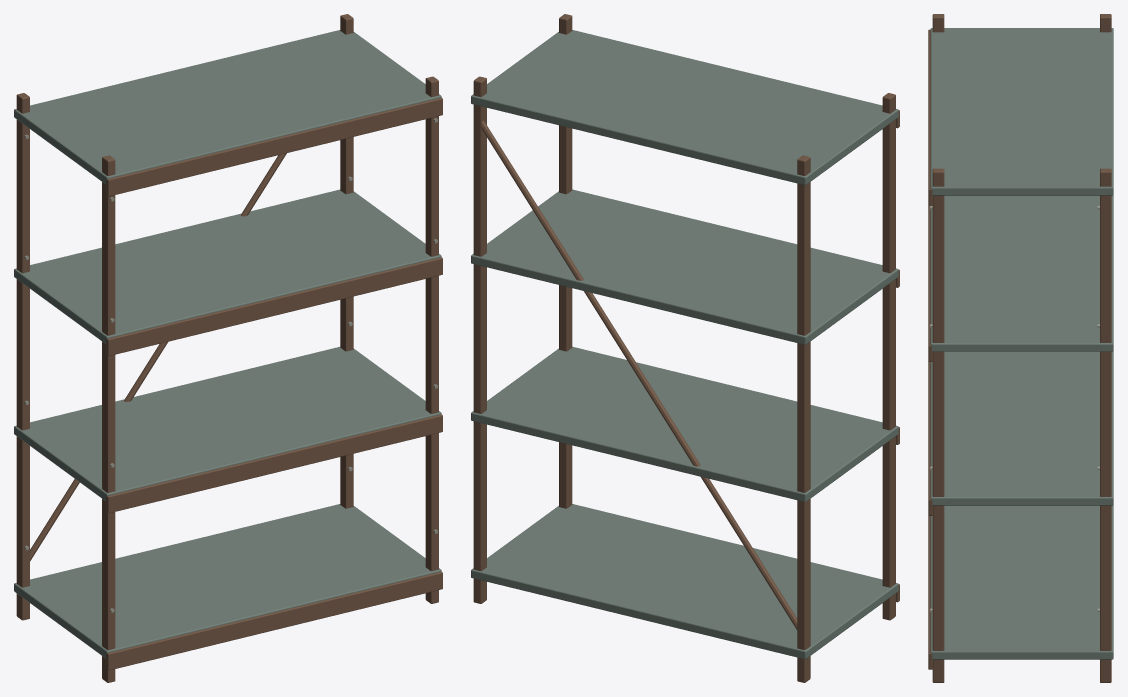
The model's file is shelf.glb.
The picture shows the model from 3 angles, left to right: view 1: azimuth 30°, elevation 25°; view 2: azimuth 150°, elevation 25°; view 3: azimuth 270°, elevation 25°; orthographic projection. The views are drawn at different scales.
Parts seen in each view (by area): view 1: shelf; view 2: shelf; view 3: shelf.
Boxes of the visible parts, <box> form: shelf: <box>14,14,442,682</box>; shelf: <box>471,14,899,682</box>; shelf: <box>928,14,1113,682</box>.
Size of the model in its own units: 1.45 by 2.16 by 0.709.
